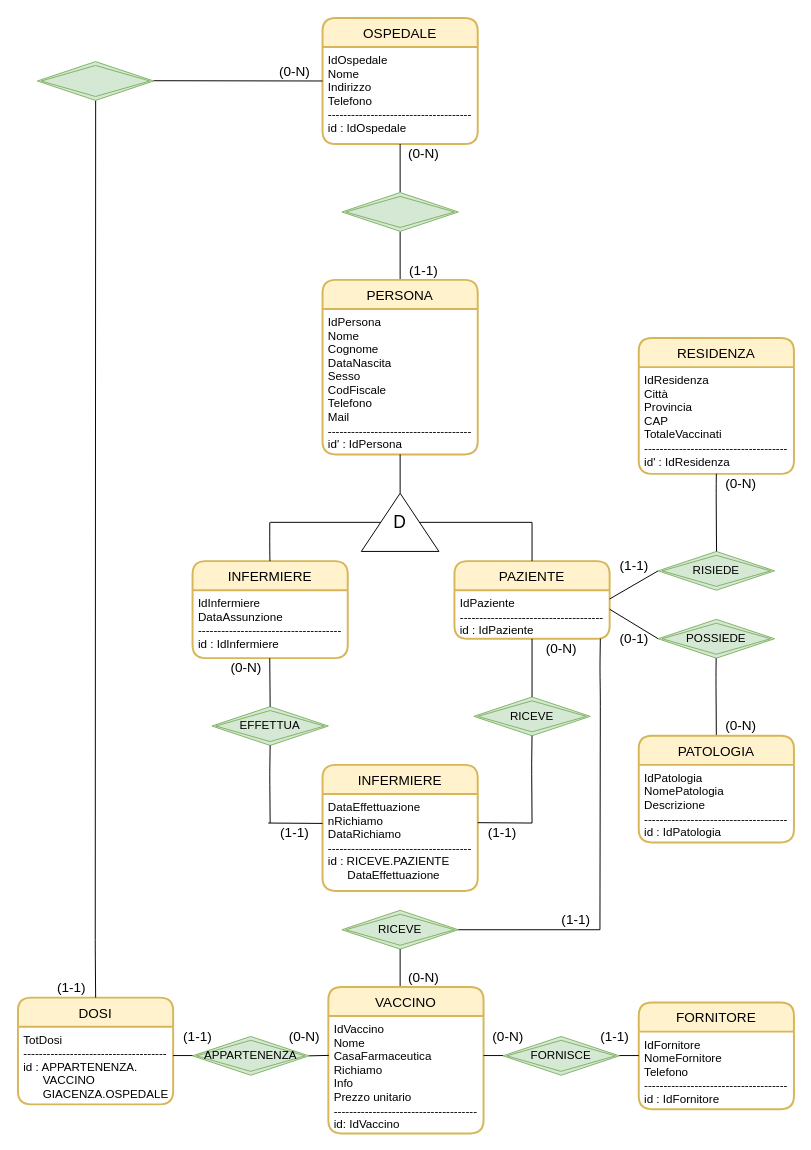
Some shapes in this 811 by 1150 pixel diagram are drawn without their labels. The centre of each missing label's shape, as x and y in pixels:
COMPRENDE: point 399,211
GIACENZA: point 95,80
